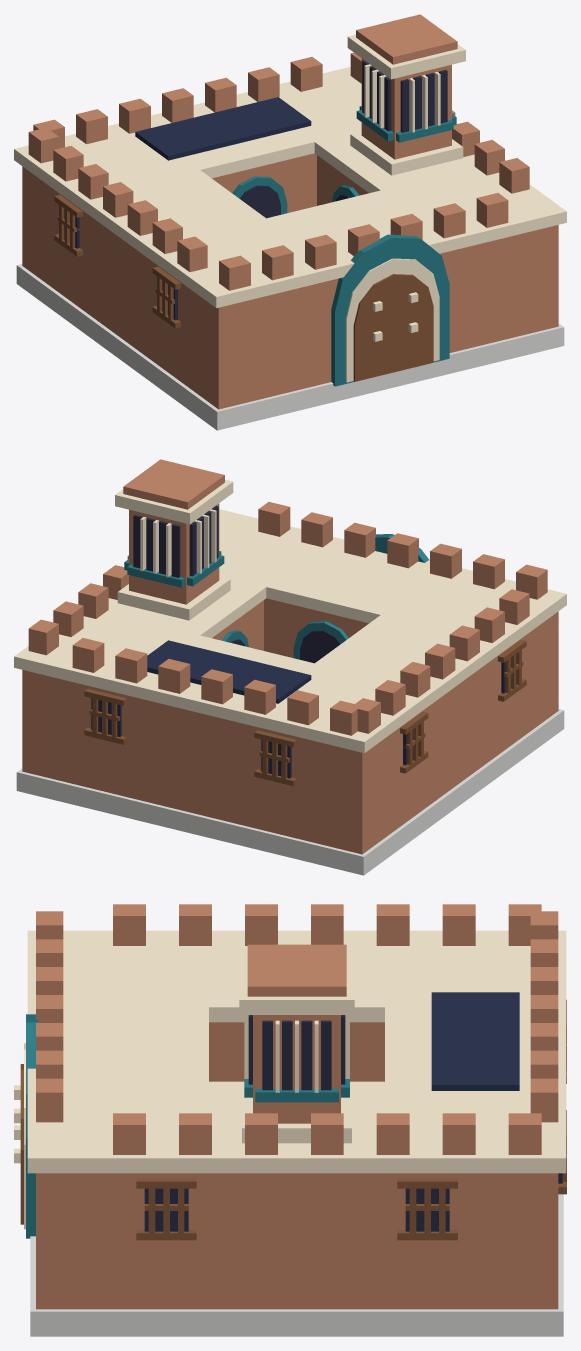
Rendered from house-1x1-1f-riad-a-solar.glb.
3 renders of one model, top to bottom at view 1: azimuth 30°, elevation 25°; view 2: azimuth 150°, elevation 25°; view 3: azimuth 270°, elevation 25°, orthographic. The views are drawn at different scales.
Visible parts, largest first — view 1: house-1x1-1f-riad-a-solar; view 2: house-1x1-1f-riad-a-solar; view 3: house-1x1-1f-riad-a-solar.
Part boxes in pixels (x1,y1,x2,y2): house-1x1-1f-riad-a-solar: [14, 14, 566, 430]; house-1x1-1f-riad-a-solar: [14, 459, 566, 875]; house-1x1-1f-riad-a-solar: [14, 904, 566, 1336].
Bounding box in the file's own units: 0.982 × 0.67 × 1.01.
Materials: 1 (1 with a texture image).
